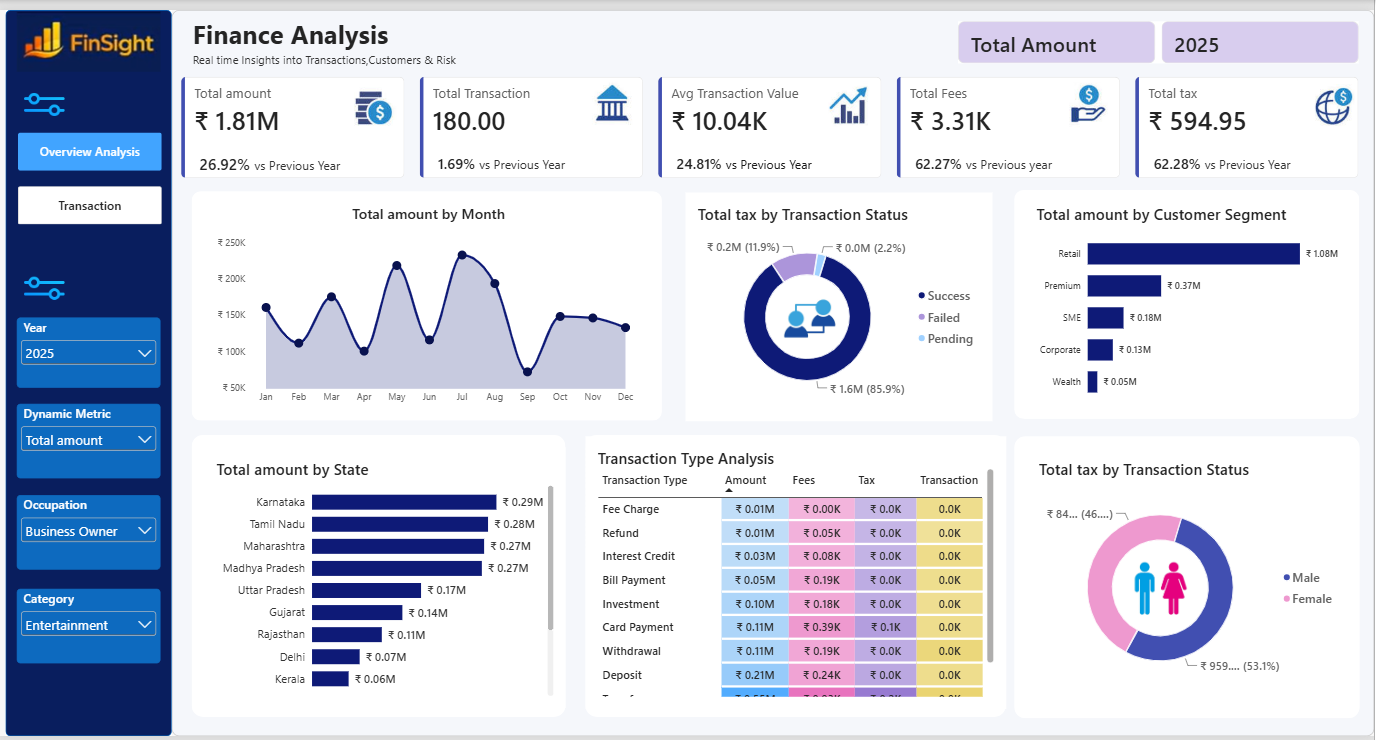

This screenshot's page, from the dashboard's own definition file:
{"tool":"powerbi","page":{"name":"Overview Analysis","canvas":[1800,950],"ordinal":0},"visuals":[{"type":"shape","box":[9.8,0,217.5,950],"z":0},{"type":"slicer","fields":{"Values":["Calendar table.Year"]},"box":[24.6,402.2,187.9,92],"z":0,"group":"g1"},{"type":"shape","box":[227.9,0,1573,950],"z":1000},{"type":"slicer","fields":{"Values":["Dynamic Metric.Dynamic Metric"]},"box":[24.4,515.4,187.9,97.9],"z":1000,"group":"g1"},{"type":"cardVisual","fields":{"Data":["finance_transactions.Dashboard Title"]},"box":[238.7,0,397.3,86.7],"z":2000},{"type":"slicer","fields":{"Values":["customers.occupation"]},"box":[24.4,635.1,187.9,97.9],"z":2000,"group":"g1"},{"type":"cardVisual","fields":{"Data":["finance_transactions.Total amount","finance_transactions.Total Transaction","finance_transactions.Avg transaction Value","finance_transactions.total Fees","finance_transactions.Total tax"]},"box":[238.7,86.7,1543.6,134.1],"z":3000},{"type":"slicer","fields":{"Values":["finance_transactions.merchant_category"]},"box":[24.4,757,187.9,97.9],"z":3000,"group":"g1"},{"type":"image","box":[24.5,0,188,83.4],"z":4000},{"type":"image","box":[454.6,93.2,71.9,60.5],"z":5000},{"type":"image","box":[768.5,93.2,71.9,60.5],"z":6000},{"type":"image","box":[1079.2,93.2,71.9,60.5],"z":7000},{"type":"image","box":[1389.9,94.8,71.9,60.5],"z":8000},{"type":"image","box":[1710.4,94.8,71.9,60.5],"z":9000},{"type":"shape","box":[253.5,237.1,615,300],"z":10000},{"type":"areaChart","title":"Total amount by Month","fields":{"Y":["finance_transactions.Total tax"],"Category":["Calendar table.month"]},"box":[269.8,238.7,585.4,297.6],"z":11000},{"type":"cardVisual","fields":{"Data":["finance_transactions.Dynamic slected measure","finance_transactions.Selected Year"]},"box":[1255.4,15.5,526,55.2],"z":12000},{"type":"shape","box":[1330.2,235.9,451.4,299.2],"z":13000},{"type":"donutChart","title":"Total tax by Transaction Status","fields":{"Y":["finance_transactions.Total tax"],"Category":["finance_transactions.transaction_status"]},"box":[899.3,239.4,401.8,299.2],"z":14000},{"type":"barChart","fields":{"Y":["finance_transactions.Total tax"],"Category":["customers.customer_segment"]},"box":[1342.1,239.4,427.4,295.8],"z":15000},{"type":"shape","box":[254,556.6,488.8,368.8],"z":16000},{"type":"barChart","fields":{"Y":["finance_transactions.Total tax"],"Category":["customers.state"]},"box":[269.6,572.3,473.1,340.9],"z":17000},{"type":"shape","box":[768.8,556.6,549.7,368.8],"z":18000},{"type":"tableEx","title":"Transaction Type Analysis","fields":{"Values":["finance_transactions.transaction_type","finance_transactions.Total amount","finance_transactions.Total Fees","finance_transactions.Total tax","finance_transactions.Total Transaction"]},"box":[769.1,557,550.1,357],"z":19000},{"type":"shape","box":[1329.6,557,451.8,369],"z":20000},{"type":"donutChart","title":"Total tax by Transaction Status","fields":{"Y":["finance_transactions.Total tax"],"Category":["customers.gender"]},"box":[1345.1,572.5,424.2,341.4],"z":21000},{"type":"image","box":[1022.6,363.9,77.6,77.6],"z":22000},{"type":"image","box":[1483,712.2,72.4,84.5],"z":23000},{"type":"pageNavigator","box":[26.1,160.2,188,121.9],"z":24000},{"type":"group","id":"g1","title":"Group 1","box":[24.4,402.2,188,452.7],"z":25000},{"type":"image","box":[24.4,334.3,71.9,60.5],"z":26000},{"type":"image","box":[24.4,94,71.9,60.5],"z":27000}]}

Visuals, with their boxes in screenshot pixels (x1, y1, x2, y2), scaled from the page's 1800x950 canvas onto the 1376x740 screenshot:
shape: bbox(7, 0, 174, 739)
slicer - Calendar table.Year: bbox(19, 313, 162, 385)
shape: bbox(174, 0, 1375, 739)
slicer - Dynamic Metric.Dynamic Metric: bbox(19, 401, 162, 478)
cardVisual - finance_transactions.Dashboard Title: bbox(182, 0, 486, 68)
slicer - customers.occupation: bbox(19, 495, 162, 571)
cardVisual - finance_transactions.Total amount x finance_transactions.Total Transaction: bbox(182, 68, 1362, 172)
slicer - finance_transactions.merchant_category: bbox(19, 590, 162, 666)
image: bbox(19, 0, 162, 65)
image: bbox(348, 73, 402, 120)
image: bbox(587, 73, 642, 120)
image: bbox(825, 73, 880, 120)
image: bbox(1063, 74, 1117, 121)
image: bbox(1308, 74, 1362, 121)
shape: bbox(194, 185, 664, 418)
"Total amount by Month" areaChart: bbox(206, 186, 654, 418)
cardVisual - finance_transactions.Dynamic slected measure x finance_transactions.Selected Year: bbox(960, 12, 1362, 55)
shape: bbox(1017, 184, 1362, 417)
"Total tax by Transaction Status" donutChart: bbox(687, 186, 995, 420)
barChart - finance_transactions.Total tax x customers.customer_segment: bbox(1026, 186, 1353, 417)
shape: bbox(194, 434, 568, 721)
barChart - finance_transactions.Total tax x customers.state: bbox(206, 446, 568, 711)
shape: bbox(588, 434, 1008, 721)
"Transaction Type Analysis" tableEx: bbox(588, 434, 1008, 712)
shape: bbox(1016, 434, 1362, 721)
"Total tax by Transaction Status" donutChart: bbox(1028, 446, 1353, 712)
image: bbox(782, 283, 841, 344)
image: bbox(1134, 555, 1189, 621)
pageNavigator: bbox(20, 125, 164, 220)
"Group 1" group: bbox(19, 313, 162, 666)
image: bbox(19, 260, 74, 308)
image: bbox(19, 73, 74, 120)
